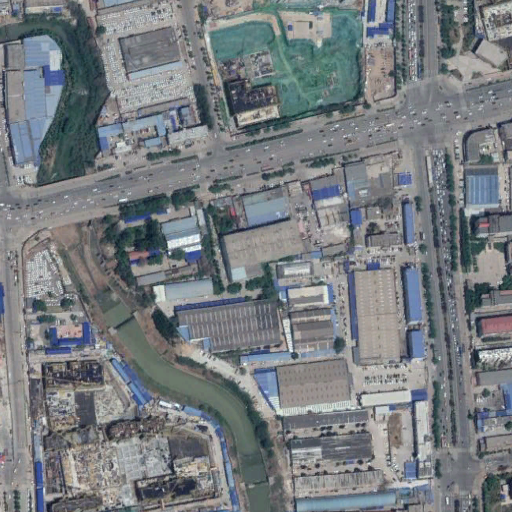cw: (203, 8, 363, 121)
